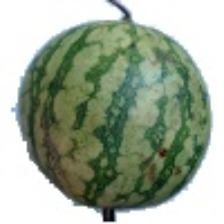watermelon: (0, 34, 189, 219)
